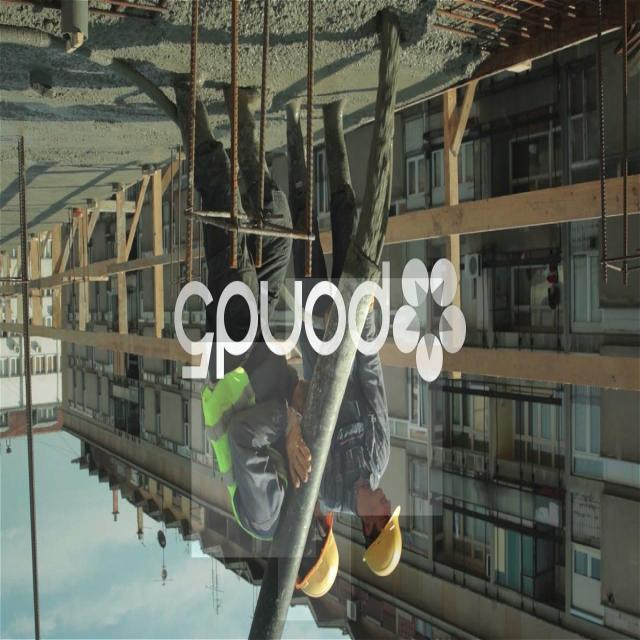Helmet: (286, 278, 442, 516), (278, 484, 351, 620), (353, 474, 419, 594)
Safety Vest: (192, 342, 316, 558)
